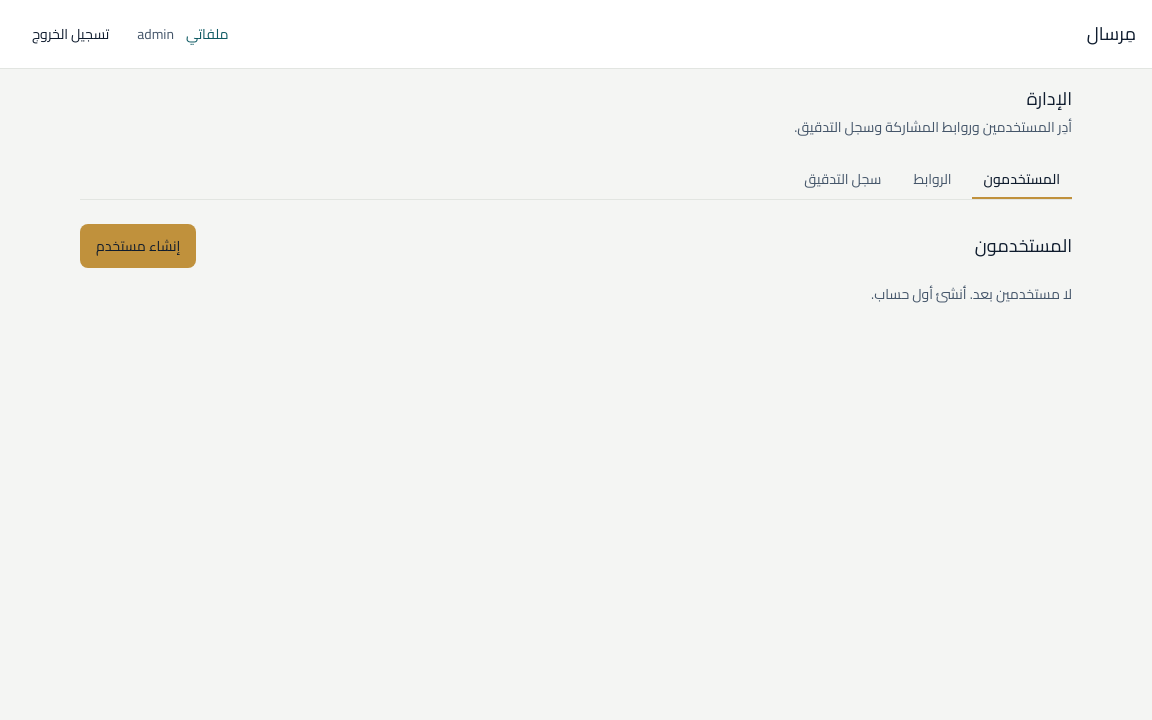
Admin — CreateUserModal validation (§3.1) › a 409 username_taken keeps the form and shows an inline error
Click the button "إنشاء مستخدم" at (138, 246), box [80,224,196,268]
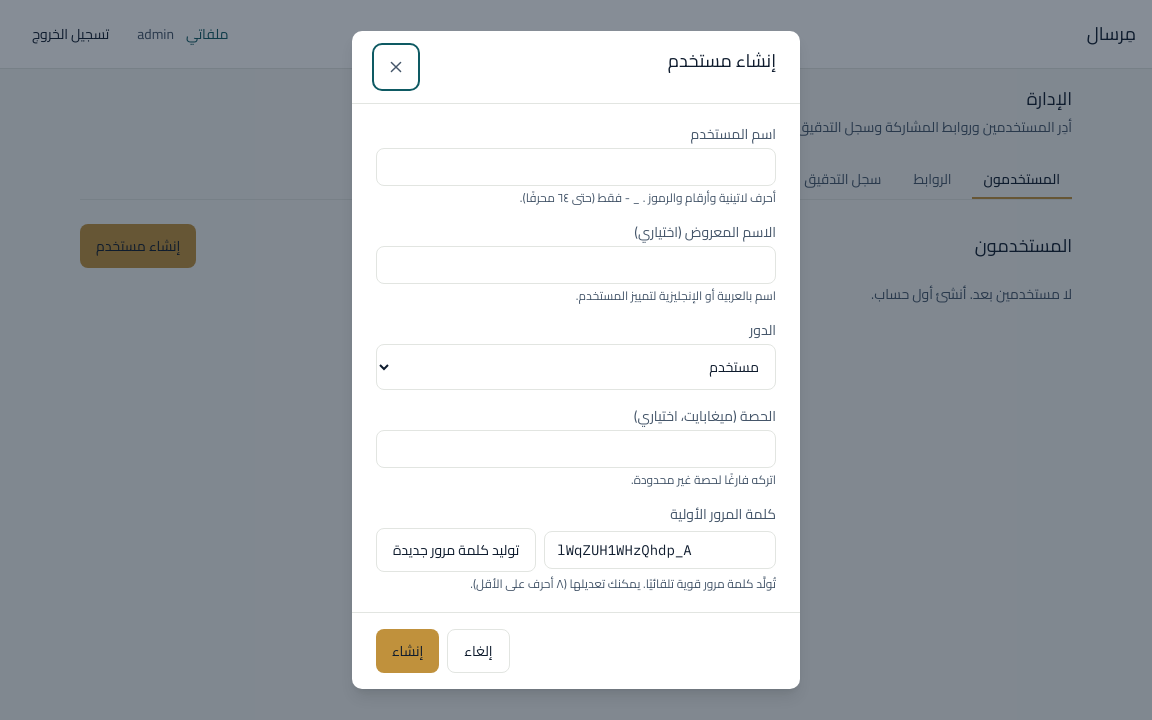
Type "sara" into the field labelled "اسم المستخدم" at (576, 167), box [376,148,776,186]
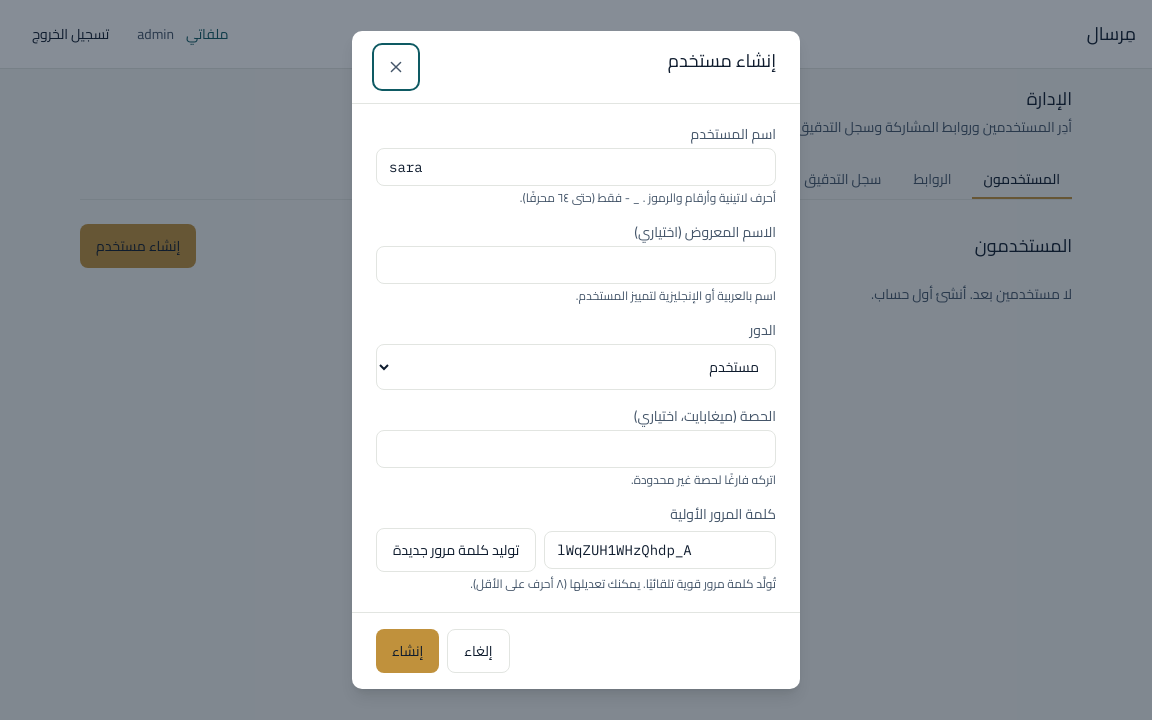
Click the button "إنشاء" at (408, 651), box [376,629,439,673]
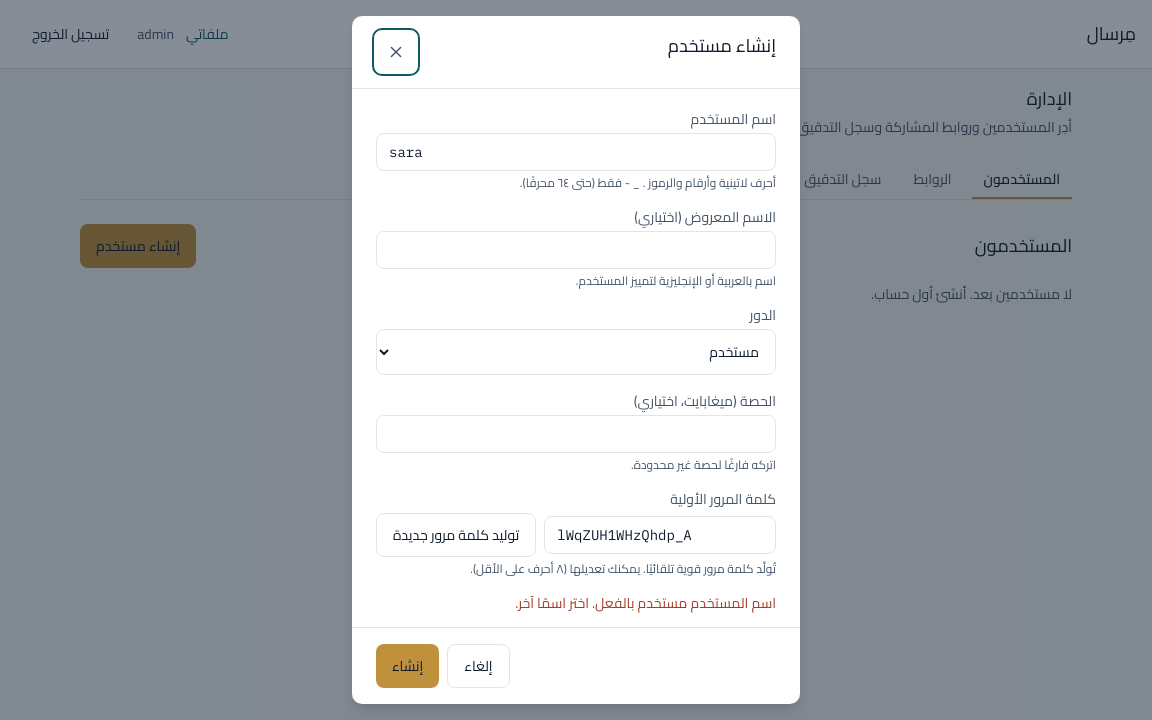
Expected: the text "اسم المستخدم مستخدم بالفعل. اختر اسمًا آخر." is shown, [515,590,776,616]
